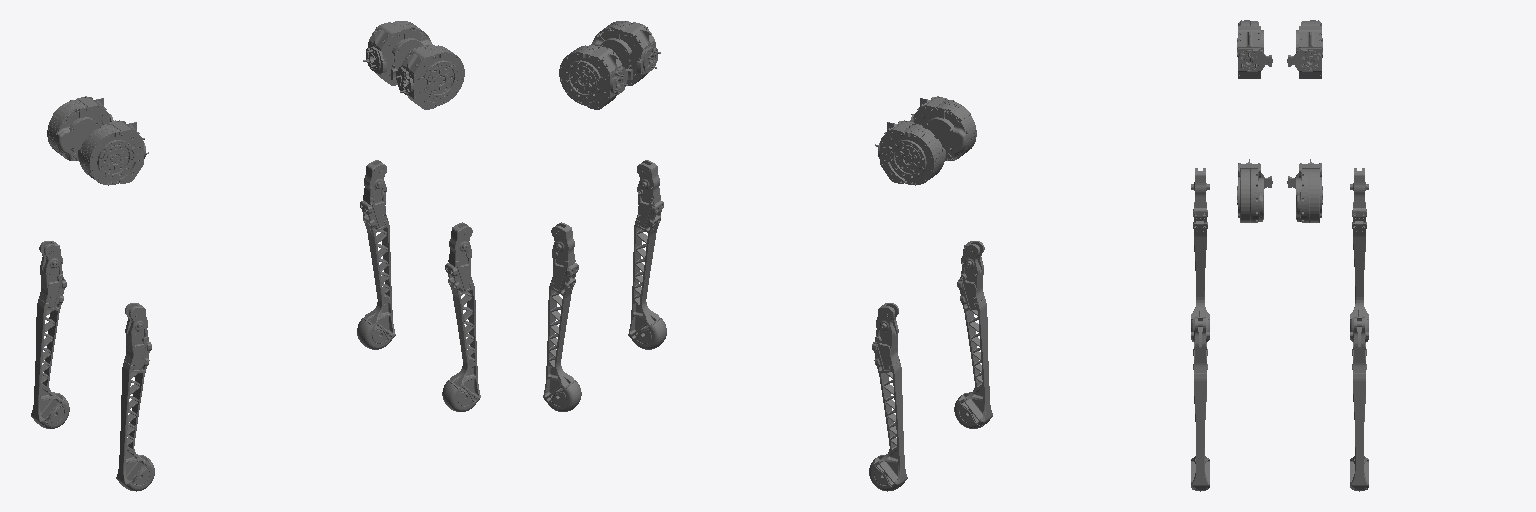
URDF robot description (krm_qugv):
<?xml version="1.0" encoding="utf-8"?>
<!-- This URDF was automatically created by SolidWorks to URDF Exporter! Originally created by Stephen Brawner (brawner@gmail.com) 
     Commit Version: 1.6.0-4-g7f85cfe  Build Version: 1.6.7995.38578
     For more information, please see http://wiki.ros.org/sw_urdf_exporter -->
<robot
  name="krm_qugv">
  <link
    name="TORSO">
    <inertial>
      <origin
        xyz="-0.001 0.01 -0.01"
        rpy="0 0 0" />
      <mass
        value="15.702" />
      <inertia
        ixx="0.12"
        ixy="-0.002"
        ixz="0.001"
        iyy="0.487"
        iyz="-0.001"
        izz="0.553" />
    </inertial>
    <visual>
      <origin
        xyz="0 0 0"
        rpy="0 0 0" />
      <geometry>
        <mesh
          filename="package://krm_qugv/meshes/TORSO.STL" />
      </geometry>
      <material
        name="black">
        <color
          rgba="0.13 0.13 0.13 1" />
      </material>
    </visual>
    <collision>
      <origin
        xyz="0 0 0"
        rpy="0 0 0" />
      <geometry>
        <mesh
          filename="package://krm_qugv/meshes/TORSO.STL" />
      </geometry>
    </collision>
  </link>
  <link
    name="FL_HIP">
    <inertial>
      <origin
        xyz="-0.009 0.001 0"
        rpy="0 0 0" />
      <mass
        value="1.683" />
      <inertia
        ixx="0.003"
        ixy="0"
        ixz="0"
        iyy="0.004"
        iyz="0"
        izz="0.003" />
    </inertial>
    <visual>
      <origin
        xyz="0 0 0"
        rpy="0 0 0" />
      <geometry>
        <mesh
          filename="package://krm_qugv/meshes/FL_HIP.STL" />
      </geometry>
      <material
        name="black">
        <color
          rgba="0.5 0.5 0.5 1" />
      </material>
    </visual>
    <collision>
      <origin
        xyz="0 0 0"
        rpy="0 0 0" />
      <geometry>
        <mesh
          filename="package://krm_qugv/meshes/FL_HIP.STL" />
      </geometry>
    </collision>
  </link>
  <joint
    name="FL_HR_JOINT"
    type="revolute">
    <origin
      xyz="0.3985 0.07 0"
      rpy="0 0 0" />
    <parent
      link="TORSO" />
    <child
      link="FL_HIP" />
    <axis
      xyz="1 0 0" />
    <limit
      lower="-0.785"
      upper="0.785"
      effort="150"
      velocity="100" />
  </joint>
  <link
    name="FL_THIGH">
    <inertial>
      <origin
        xyz="-0.007 -0.022 -0.056"
        rpy="0 0 0" />
      <mass
        value="3.615" />
      <inertia
        ixx="0.047"
        ixy="-0.001"
        ixz="0.003"
        iyy="0.047"
        iyz="-0.004"
        izz="0.007" />
    </inertial>
    <visual>
      <origin
        xyz="0 0 0"
        rpy="0 0 0" />
      <geometry>
        <mesh
          filename="package://krm_qugv/meshes/FL_THIGH.STL" />
      </geometry>
      <material
        name="black">
        <color
          rgba="0.5 0.5 0.5 1" />
      </material>
    </visual>
    <collision>
      <origin
        xyz="0 0 0"
        rpy="0 0 0" />
      <geometry>
        <mesh
          filename="package://krm_qugv/meshes/FL_THIGH.STL" />
      </geometry>
    </collision>
  </link>
  <joint
    name="FL_HP_JOINT"
    type="revolute">
    <origin
      xyz="0 0.11125 0"
      rpy="0 0 0" />
    <parent
      link="FL_HIP" />
    <child
      link="FL_THIGH" />
    <axis
      xyz="0 1 0" />
    <limit
      lower="-2.356"
      upper="2.356"
      effort="150"
      velocity="100" />
  </joint>
  <link
    name="FL_CALF">
    <inertial>
      <origin
        xyz="0.002 0 -0.171"
        rpy="0 0 0" />
      <mass
        value="0.968" />
      <inertia
        ixx="0.02"
        ixy="0"
        ixz="0"
        iyy="0.021"
        iyz="0"
        izz="0.001" />
    </inertial>
    <visual>
      <origin
        xyz="0 0 0"
        rpy="0 0 0" />
      <geometry>
        <mesh
          filename="package://krm_qugv/meshes/FL_CALF.STL" />
      </geometry>
      <material
        name="black">
        <color
          rgba="0.5 0.5 0.5 1" />
      </material>
    </visual>
    <collision>
      <origin
        xyz="0 0 0"
        rpy="0 0 0" />
      <geometry>
        <mesh
          filename="package://krm_qugv/meshes/FL_CALF.STL" />
      </geometry>
    </collision>
  </link>
  <joint
    name="FL_KN_JOINT"
    type="revolute">
    <origin
      xyz="0 0 -0.35"
      rpy="0 0 0" />
    <parent
      link="FL_THIGH" />
    <child
      link="FL_CALF" />
    <axis
      xyz="0 1 0" />
    <limit
      lower="-2.844"
      upper="0"
      effort="150"
      velocity="100" />
  </joint>
  <link
    name="FL_TIP">
    <inertial>
      <origin
        xyz="0 -0.004 0"
        rpy="0 0 0" />
      <mass
        value="0.00001" />
      <inertia
        ixx="0"
        ixy="0"
        ixz="0"
        iyy="0"
        iyz="0"
        izz="0" />
    </inertial>
    <visual>
      <origin
        xyz="0 0 0"
        rpy="0 0 0" />
      <geometry>
        <mesh
          filename="package://krm_qugv/meshes/FL_TIP.STL" />
      </geometry>
      <material
        name="black">
        <color
          rgba="0.5 0.5 0.5 1" />
      </material>
    </visual>
    <collision>
      <origin
        xyz="0 0 0"
        rpy="0 0 0" />
      <geometry>
        <mesh
          filename="package://krm_qugv/meshes/FL_TIP.STL" />
      </geometry>
    </collision>
  </link>
  <joint
    name="FL_TP_JOINT"
    type="revolute">
    <origin
      xyz="0 0 -0.35"
      rpy="0 0 0" />
    <parent
      link="FL_CALF" />
    <child
      link="FL_TIP" />
    <axis
      xyz="0 -1 0" />
    <limit
      lower="0"
      upper="0"
      effort="0"
      velocity="0" />
  </joint>
  <link
    name="FR_HIP">
    <inertial>
      <origin
        xyz="-0.009 -0.001 0"
        rpy="0 0 0" />
      <mass
        value="1.683" />
      <inertia
        ixx="0.003"
        ixy="0"
        ixz="0"
        iyy="0.004"
        iyz="0"
        izz="0.003" />
    </inertial>
    <visual>
      <origin
        xyz="0 0 0"
        rpy="0 0 0" />
      <geometry>
        <mesh
          filename="package://krm_qugv/meshes/FR_HIP.STL" />
      </geometry>
      <material
        name="black">
        <color
          rgba="0.5 0.5 0.5 1" />
      </material>
    </visual>
    <collision>
      <origin
        xyz="0 0 0"
        rpy="0 0 0" />
      <geometry>
        <mesh
          filename="package://krm_qugv/meshes/FR_HIP.STL" />
      </geometry>
    </collision>
  </link>
  <joint
    name="FR_HR_JOINT"
    type="revolute">
    <origin
      xyz="0.3985 -0.07 0"
      rpy="0 0 0" />
    <parent
      link="TORSO" />
    <child
      link="FR_HIP" />
    <axis
      xyz="1 0 0" />
    <limit
      lower="-0.785"
      upper="0.785"
      effort="150"
      velocity="100" />
  </joint>
  <link
    name="FR_THIGH">
    <inertial>
      <origin
        xyz="-0.007 0.022 -0.056"
        rpy="0 0 0" />
      <mass
        value="3.617" />
      <inertia
        ixx="0.047"
        ixy="0.001"
        ixz="0.003"
        iyy="0.047"
        iyz="0.004"
        izz="0.007" />
    </inertial>
    <visual>
      <origin
        xyz="0 0 0"
        rpy="0 0 0" />
      <geometry>
        <mesh
          filename="package://krm_qugv/meshes/FR_THIGH.STL" />
      </geometry>
      <material
        name="black">
        <color
          rgba="0.5 0.5 0.5 1" />
      </material>
    </visual>
    <collision>
      <origin
        xyz="0 0 0"
        rpy="0 0 0" />
      <geometry>
        <mesh
          filename="package://krm_qugv/meshes/FR_THIGH.STL" />
      </geometry>
    </collision>
  </link>
  <joint
    name="FR_HP_JOINT"
    type="revolute">
    <origin
      xyz="0 -0.11125 0"
      rpy="0 0 0" />
    <parent
      link="FR_HIP" />
    <child
      link="FR_THIGH" />
    <axis
      xyz="0 -1 0" />
    <limit
      lower="-2.356"
      upper="2.356"
      effort="150"
      velocity="100" />
  </joint>
  <link
    name="FR_CALF">
    <inertial>
      <origin
        xyz="0.002 0 -0.171"
        rpy="0 0 0" />
      <mass
        value="0.968" />
      <inertia
        ixx="0.02"
        ixy="0"
        ixz="0"
        iyy="0.021"
        iyz="0"
        izz="0.001" />
    </inertial>
    <visual>
      <origin
        xyz="0 0 0"
        rpy="0 0 0" />
      <geometry>
        <mesh
          filename="package://krm_qugv/meshes/FR_CALF.STL" />
      </geometry>
      <material
        name="black">
        <color
          rgba="0.5 0.5 0.5 1" />
      </material>
    </visual>
    <collision>
      <origin
        xyz="0 0 0"
        rpy="0 0 0" />
      <geometry>
        <mesh
          filename="package://krm_qugv/meshes/FR_CALF.STL" />
      </geometry>
    </collision>
  </link>
  <joint
    name="FR_KN_JOINT"
    type="revolute">
    <origin
      xyz="0 0 -0.35"
      rpy="0 0 0" />
    <parent
      link="FR_THIGH" />
    <child
      link="FR_CALF" />
    <axis
      xyz="0 -1 0" />
    <limit
      lower="0"
      upper="2.844"
      effort="150"
      velocity="100" />
  </joint>
  <link
    name="FR_TIP">
    <inertial>
      <origin
        xyz="0 -0.004 0"
        rpy="0 0 0" />
      <mass
        value="0.00001" />
      <inertia
        ixx="0"
        ixy="0"
        ixz="0"
        iyy="0"
        iyz="0"
        izz="0" />
    </inertial>
    <visual>
      <origin
        xyz="0 0 0"
        rpy="0 0 0" />
      <geometry>
        <mesh
          filename="package://krm_qugv/meshes/FR_TIP.STL" />
      </geometry>
      <material
        name="black">
        <color
          rgba="0.5 0.5 0.5 1" />
      </material>
    </visual>
    <collision>
      <origin
        xyz="0 0 0"
        rpy="0 0 0" />
      <geometry>
        <mesh
          filename="package://krm_qugv/meshes/FR_TIP.STL" />
      </geometry>
    </collision>
  </link>
  <joint
    name="FR_TP_JOINT"
    type="revolute">
    <origin
      xyz="0 0 -0.35"
      rpy="0 0 0" />
    <parent
      link="FR_CALF" />
    <child
      link="FR_TIP" />
    <axis
      xyz="0 1 0" />
    <limit
      lower="0"
      upper="0"
      effort="0"
      velocity="0" />
  </joint>
  <link
    name="RL_HIP">
    <inertial>
      <origin
        xyz="0.009 0.001 0"
        rpy="0 0 0" />
      <mass
        value="1.683" />
      <inertia
        ixx="0.003"
        ixy="0"
        ixz="0"
        iyy="0.004"
        iyz="0"
        izz="0.003" />
    </inertial>
    <visual>
      <origin
        xyz="0 0 0"
        rpy="0 0 0" />
      <geometry>
        <mesh
          filename="package://krm_qugv/meshes/RL_HIP.STL" />
      </geometry>
      <material
        name="black">
        <color
          rgba="0.5 0.5 0.5 1" />
      </material>
    </visual>
    <collision>
      <origin
        xyz="0 0 0"
        rpy="0 0 0" />
      <geometry>
        <mesh
          filename="package://krm_qugv/meshes/RL_HIP.STL" />
      </geometry>
    </collision>
  </link>
  <joint
    name="RL_HR_JOINT"
    type="revolute">
    <origin
      xyz="-0.3985 0.07 0"
      rpy="0 0 0" />
    <parent
      link="TORSO" />
    <child
      link="RL_HIP" />
    <axis
      xyz="-1 0 0" />
    <limit
      lower="-0.785"
      upper="0.785"
      effort="150"
      velocity="100" />
  </joint>
  <link
    name="RL_THIGH">
    <inertial>
      <origin
        xyz="0.007 -0.022 -0.056"
        rpy="0 0 0" />
      <mass
        value="3.617" />
      <inertia
        ixx="0.047"
        ixy="0.001"
        ixz="-0.003"
        iyy="0.047"
        iyz="-0.004"
        izz="0.007" />
    </inertial>
    <visual>
      <origin
        xyz="0 0 0"
        rpy="0 0 0" />
      <geometry>
        <mesh
          filename="package://krm_qugv/meshes/RL_THIGH.STL" />
      </geometry>
      <material
        name="black">
        <color
          rgba="0.5 0.5 0.5 1" />
      </material>
    </visual>
    <collision>
      <origin
        xyz="0 0 0"
        rpy="0 0 0" />
      <geometry>
        <mesh
          filename="package://krm_qugv/meshes/RL_THIGH.STL" />
      </geometry>
    </collision>
  </link>
  <joint
    name="RL_HP_JOINT"
    type="revolute">
    <origin
      xyz="0 0.11125 0"
      rpy="0 0 0" />
    <parent
      link="RL_HIP" />
    <child
      link="RL_THIGH" />
    <axis
      xyz="0 1 0" />
    <limit
      lower="-2.356"
      upper="2.356"
      effort="150"
      velocity="100" />
  </joint>
  <link
    name="RL_CALF">
    <inertial>
      <origin
        xyz="-0.002 0 -0.171"
        rpy="0 0 0" />
      <mass
        value="0.968" />
      <inertia
        ixx="0.02"
        ixy="0"
        ixz="0"
        iyy="0.021"
        iyz="0"
        izz="0.001" />
    </inertial>
    <visual>
      <origin
        xyz="0 0 0"
        rpy="0 0 0" />
      <geometry>
        <mesh
          filename="package://krm_qugv/meshes/RL_CALF.STL" />
      </geometry>
      <material
        name="black">
        <color
          rgba="0.5 0.5 0.5 1" />
      </material>
    </visual>
    <collision>
      <origin
        xyz="0 0 0"
        rpy="0 0 0" />
      <geometry>
        <mesh
          filename="package://krm_qugv/meshes/RL_CALF.STL" />
      </geometry>
    </collision>
  </link>
  <joint
    name="RL_KN_JOINT"
    type="revolute">
    <origin
      xyz="0 0 -0.35"
      rpy="0 0 0" />
    <parent
      link="RL_THIGH" />
    <child
      link="RL_CALF" />
    <axis
      xyz="0 1 0" />
    <limit
      lower="0"
      upper="2.844"
      effort="150"
      velocity="100" />
  </joint>
  <link
    name="RL_TIP">
    <inertial>
      <origin
        xyz="0 0.004 0"
        rpy="0 0 0" />
      <mass
        value="0.00001" />
      <inertia
        ixx="0"
        ixy="0"
        ixz="0"
        iyy="0"
        iyz="0"
        izz="0" />
    </inertial>
    <visual>
      <origin
        xyz="0 0 0"
        rpy="0 0 0" />
      <geometry>
        <mesh
          filename="package://krm_qugv/meshes/RL_TIP.STL" />
      </geometry>
      <material
        name="black">
        <color
          rgba="0.5 0.5 0.5 1" />
      </material>
    </visual>
    <collision>
      <origin
        xyz="0 0 0"
        rpy="0 0 0" />
      <geometry>
        <mesh
          filename="package://krm_qugv/meshes/RL_TIP.STL" />
      </geometry>
    </collision>
  </link>
  <joint
    name="RL_TP_JOINT"
    type="revolute">
    <origin
      xyz="0 0 -0.35"
      rpy="0 0 0" />
    <parent
      link="RL_CALF" />
    <child
      link="RL_TIP" />
    <axis
      xyz="0 -1 0" />
    <limit
      lower="0"
      upper="0"
      effort="0"
      velocity="0" />
  </joint>
  <link
    name="RR_HIP">
    <inertial>
      <origin
        xyz="0.009 -0.001 0"
        rpy="0 0 0" />
      <mass
        value="1.683" />
      <inertia
        ixx="0.003"
        ixy="0"
        ixz="0"
        iyy="0.004"
        iyz="0"
        izz="0.003" />
    </inertial>
    <visual>
      <origin
        xyz="0 0 0"
        rpy="0 0 0" />
      <geometry>
        <mesh
          filename="package://krm_qugv/meshes/RR_HIP.STL" />
      </geometry>
      <material
        name="black">
        <color
          rgba="0.5 0.5 0.5 1" />
      </material>
    </visual>
    <collision>
      <origin
        xyz="0 0 0"
        rpy="0 0 0" />
      <geometry>
        <mesh
          filename="package://krm_qugv/meshes/RR_HIP.STL" />
      </geometry>
    </collision>
  </link>
  <joint
    name="RR_HR_JOINT"
    type="revolute">
    <origin
      xyz="-0.3985 -0.07 0"
      rpy="0 0 0" />
    <parent
      link="TORSO" />
    <child
      link="RR_HIP" />
    <axis
      xyz="-1 0 0" />
    <limit
      lower="-0.785"
      upper="0.785"
      effort="150"
      velocity="100" />
  </joint>
  <link
    name="RR_THIGH">
    <inertial>
      <origin
        xyz="0.007 0.022 -0.056"
        rpy="0 0 0" />
      <mass
        value="3.615" />
      <inertia
        ixx="0.047"
        ixy="-0.001"
        ixz="-0.003"
        iyy="0.047"
        iyz="0.004"
        izz="0.007" />
    </inertial>
    <visual>
      <origin
        xyz="0 0 0"
        rpy="0 0 0" />
      <geometry>
        <mesh
          filename="package://krm_qugv/meshes/RR_THIGH.STL" />
      </geometry>
      <material
        name="black">
        <color
          rgba="0.5 0.5 0.5 1" />
      </material>
    </visual>
    <collision>
      <origin
        xyz="0 0 0"
        rpy="0 0 0" />
      <geometry>
        <mesh
          filename="package://krm_qugv/meshes/RR_THIGH.STL" />
      </geometry>
    </collision>
  </link>
  <joint
    name="RR_HP_JOINT"
    type="revolute">
    <origin
      xyz="0 -0.11125 0"
      rpy="0 0 0" />
    <parent
      link="RR_HIP" />
    <child
      link="RR_THIGH" />
    <axis
      xyz="0 -1 0" />
    <limit
      lower="-2.356"
      upper="2.356"
      effort="150"
      velocity="100" />
  </joint>
  <link
    name="RR_CALF">
    <inertial>
      <origin
        xyz="-0.002 0 -0.171"
        rpy="0 0 0" />
      <mass
        value="0.968" />
      <inertia
        ixx="0.02"
        ixy="0"
        ixz="0"
        iyy="0.021"
        iyz="0"
        izz="0.001" />
    </inertial>
    <visual>
      <origin
        xyz="0 0 0"
        rpy="0 0 0" />
      <geometry>
        <mesh
          filename="package://krm_qugv/meshes/RR_CALF.STL" />
      </geometry>
      <material
        name="">
        <color
          rgba="0.5 0.5 0.5 1" />
      </material>
    </visual>
    <collision>
      <origin
        xyz="0 0 0"
        rpy="0 0 0" />
      <geometry>
        <mesh
          filename="package://krm_qugv/meshes/RR_CALF.STL" />
      </geometry>
    </collision>
  </link>
  <joint
    name="RR_KN_JOINT"
    type="revolute">
    <origin
      xyz="0 0 -0.35"
      rpy="0 0 0" />
    <parent
      link="RR_THIGH" />
    <child
      link="RR_CALF" />
    <axis
      xyz="0 -1 0" />
    <limit
      lower="-2.844"
      upper="0"
      effort="150"
      velocity="100" />
  </joint>
  <link
    name="RR_TIP">
    <inertial>
      <origin
        xyz="0 0.004 0"
        rpy="0 0 0" />
      <mass
        value="0.00001" />
      <inertia
        ixx="0"
        ixy="0"
        ixz="0"
        iyy="0"
        iyz="0"
        izz="0" />
    </inertial>
    <visual>
      <origin
        xyz="0 0 0"
        rpy="0 0 0" />
      <geometry>
        <mesh
          filename="package://krm_qugv/meshes/RR_TIP.STL" />
      </geometry>
        <material
          name="black">
          <color
            rgba="0.5 0.5 0.5 1" />
        </material>
    </visual>
    <collision>
      <origin
        xyz="0 0 0"
        rpy="0 0 0" />
      <geometry>
        <mesh
          filename="package://krm_qugv/meshes/RR_TIP.STL" />
      </geometry>
    </collision>
  </link>
  <joint
    name="RR_TP_JOINT"
    type="revolute">
    <origin
      xyz="0 0 -0.35"
      rpy="0 0 0" />
    <parent
      link="RR_CALF" />
    <child
      link="RR_TIP" />
    <axis
      xyz="0 1 0" />
    <limit
      lower="0"
      upper="0"
      effort="0"
      velocity="0" />
  </joint>
</robot>

--- Facts derived from the render (not from the file) ---
Views: 3 orthographic renders of the robot side by side, from view 1: azimuth 30°, elevation 25°; view 2: azimuth 150°, elevation 25°; view 3: azimuth 270°, elevation 25°.
Model krm_qugv with 17 links and 16 joints (16 revolute), rooted at TORSO, posed every joint at zero.
Links seen in each view (by area): view 1: RR_CALF, RL_CALF, FL_CALF, FR_CALF, FR_HIP, RR_HIP, RL_HIP, FL_HIP; view 2: RL_CALF, RR_CALF, FR_CALF, FL_CALF, FL_HIP, RL_HIP, RR_HIP, FR_HIP; view 3: FL_CALF, FR_CALF, RR_CALF, RL_CALF, FL_HIP, FR_HIP, RL_HIP, RR_HIP.
Boxes of the visible links, bbox=[...] form: RR_CALF: bbox=[116, 303, 154, 491]; RL_CALF: bbox=[31, 241, 69, 428]; FL_CALF: bbox=[357, 160, 395, 349]; FR_CALF: bbox=[442, 222, 480, 411]; FR_HIP: bbox=[391, 45, 464, 109]; RR_HIP: bbox=[78, 120, 148, 185]; RL_HIP: bbox=[47, 96, 115, 160]; FL_HIP: bbox=[363, 21, 432, 85]; RL_CALF: bbox=[869, 303, 907, 491]; RR_CALF: bbox=[954, 241, 992, 428]; FR_CALF: bbox=[628, 160, 666, 349]; FL_CALF: bbox=[543, 222, 581, 411]; FL_HIP: bbox=[559, 45, 632, 109]; RL_HIP: bbox=[875, 120, 945, 185]; RR_HIP: bbox=[910, 96, 976, 160]; FR_HIP: bbox=[591, 21, 660, 85]; FL_CALF: bbox=[1350, 317, 1368, 491]; FR_CALF: bbox=[1191, 317, 1209, 491]; RR_CALF: bbox=[1191, 168, 1209, 342]; RL_CALF: bbox=[1350, 168, 1368, 342]; FL_HIP: bbox=[1287, 159, 1322, 222]; FR_HIP: bbox=[1237, 159, 1272, 222]; RL_HIP: bbox=[1287, 20, 1322, 78]; RR_HIP: bbox=[1237, 20, 1272, 78].
Size in the robot's own frame: 0.921 by 0.4076 by 0.802 metres.
Meshes: 17 distinct files referenced, 12 mesh visuals loaded (12 binary STL); not drawn: 5 (reference not matched to a file when rendering).
